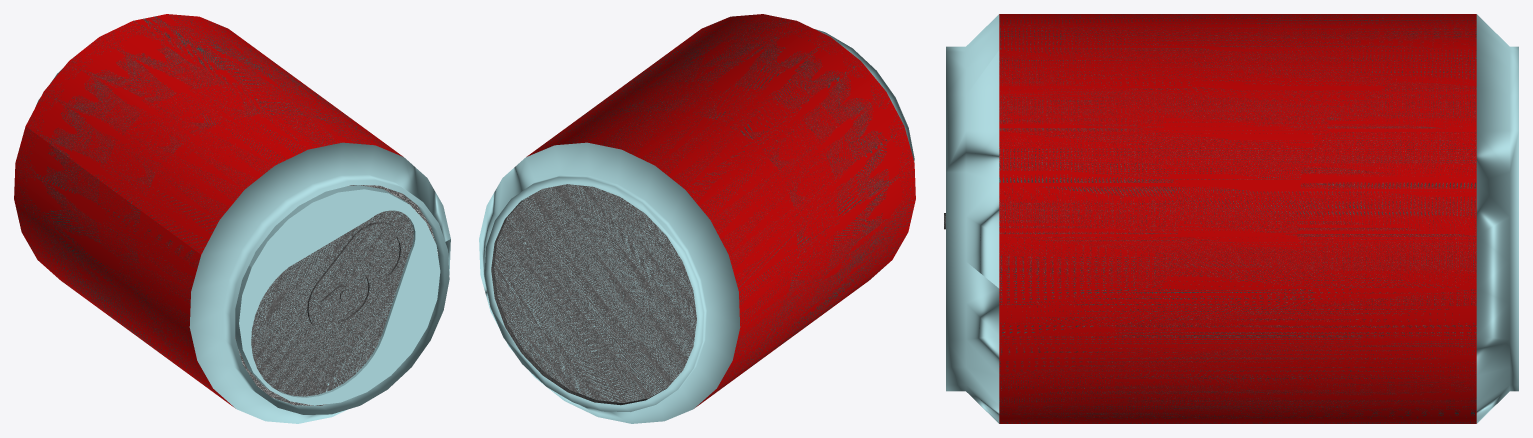
Rendered from model_align.obj.
3 renders of one model, left to right at view 1: azimuth 30°, elevation 25°; view 2: azimuth 150°, elevation 25°; view 3: azimuth 270°, elevation 25°, orthographic. The views are drawn at different scales.
Parts seen in each view (by area): view 1: mesh1_mesh1-geometry, mesh2_mesh2-geometry; view 2: mesh1_mesh1-geometry; view 3: mesh1_mesh1-geometry.
Part boxes in pixels (x1,y1,x2,y2): mesh1_mesh1-geometry: (14, 14, 450, 423); mesh2_mesh2-geometry: (307, 222, 406, 335); mesh1_mesh1-geometry: (479, 14, 915, 423); mesh1_mesh1-geometry: (946, 14, 1518, 423).
Bounding box in the file's own units: 0.0731 × 0.0731 × 0.1026.
